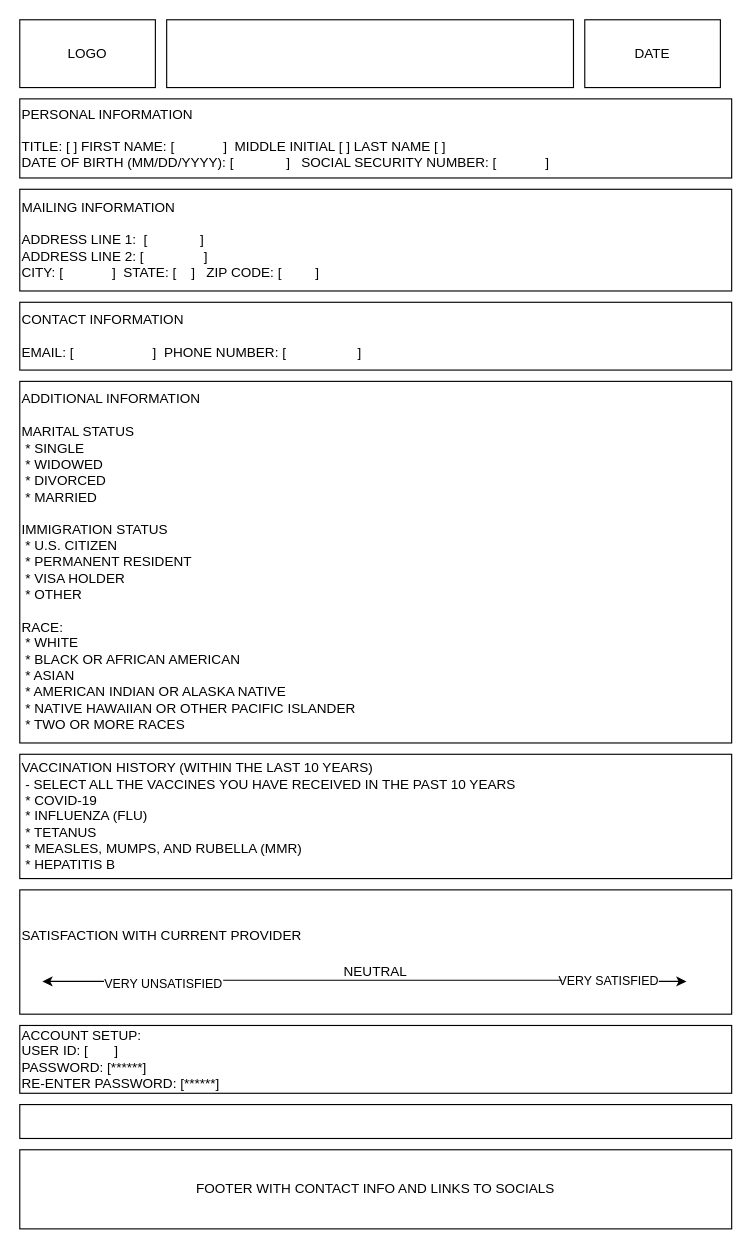
This 751x1249 diagram has some shape labels left out. The shapes that lost their labels are listed below. From the top down, each one's centre as x and y in pixels, then its label:
the point at 369,53: COMPANY NAME
the point at 375,1120: REST AND SUBMIT BUTTONS
